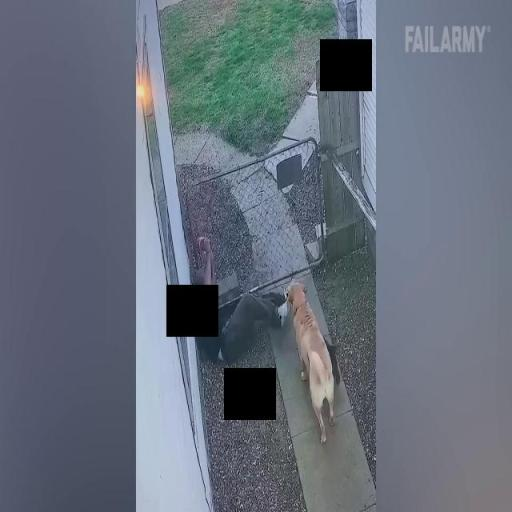Fall: (191, 232, 295, 363)
